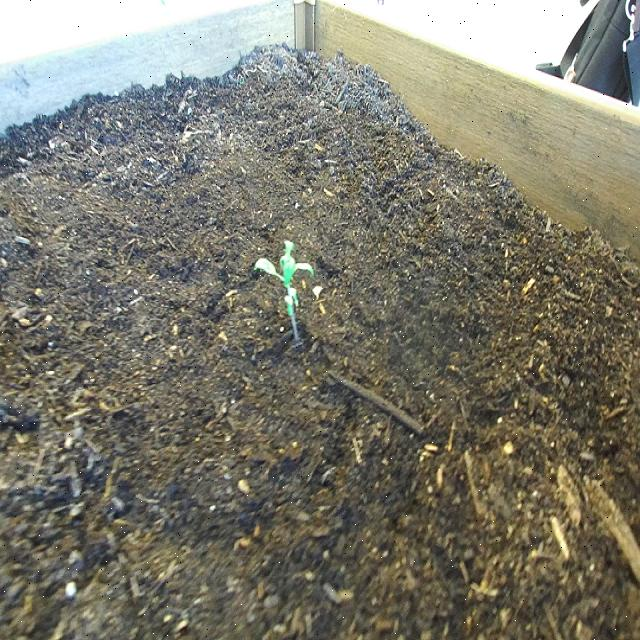Healthy: (252, 234, 318, 350)
